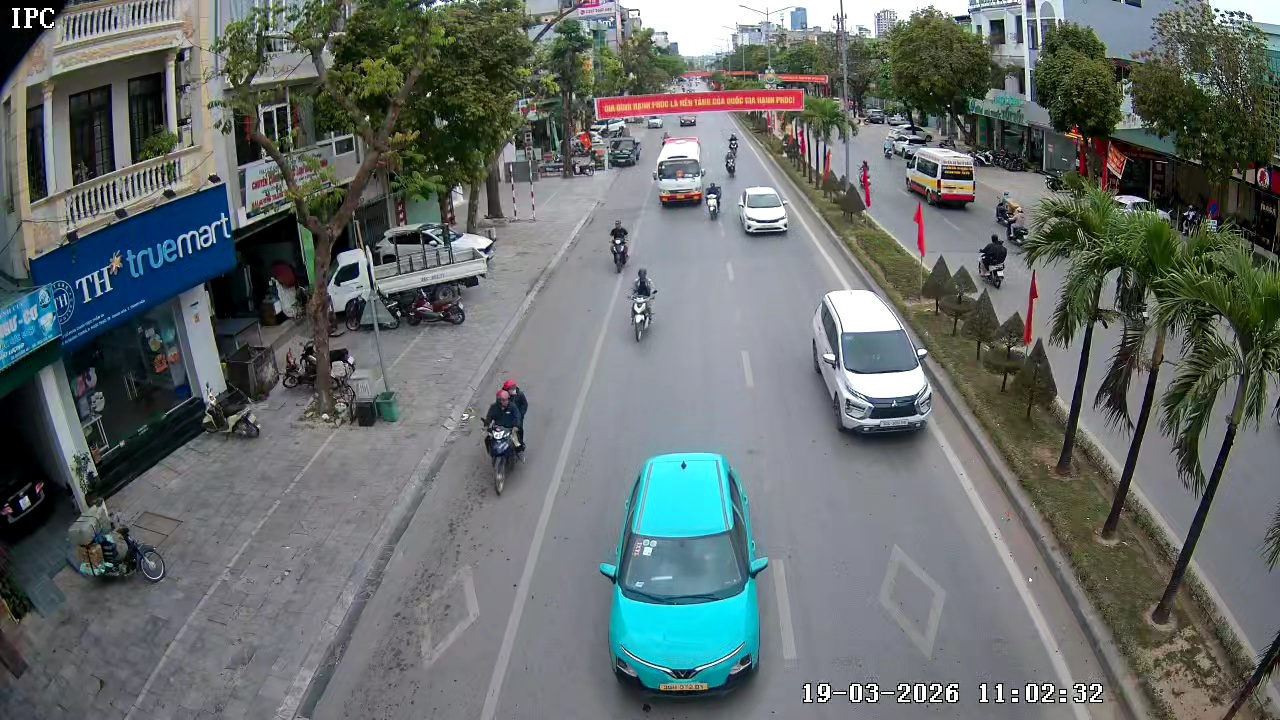bus: (903, 146, 978, 210), (656, 131, 705, 207)
car: (598, 451, 771, 714), (809, 289, 935, 435), (736, 184, 791, 237)
motorbike: (67, 501, 168, 586), (480, 378, 531, 495), (628, 267, 660, 342), (977, 232, 1009, 290), (607, 218, 631, 272), (1006, 198, 1027, 248), (704, 180, 723, 223), (724, 139, 738, 180)
truck: (608, 132, 641, 167)
